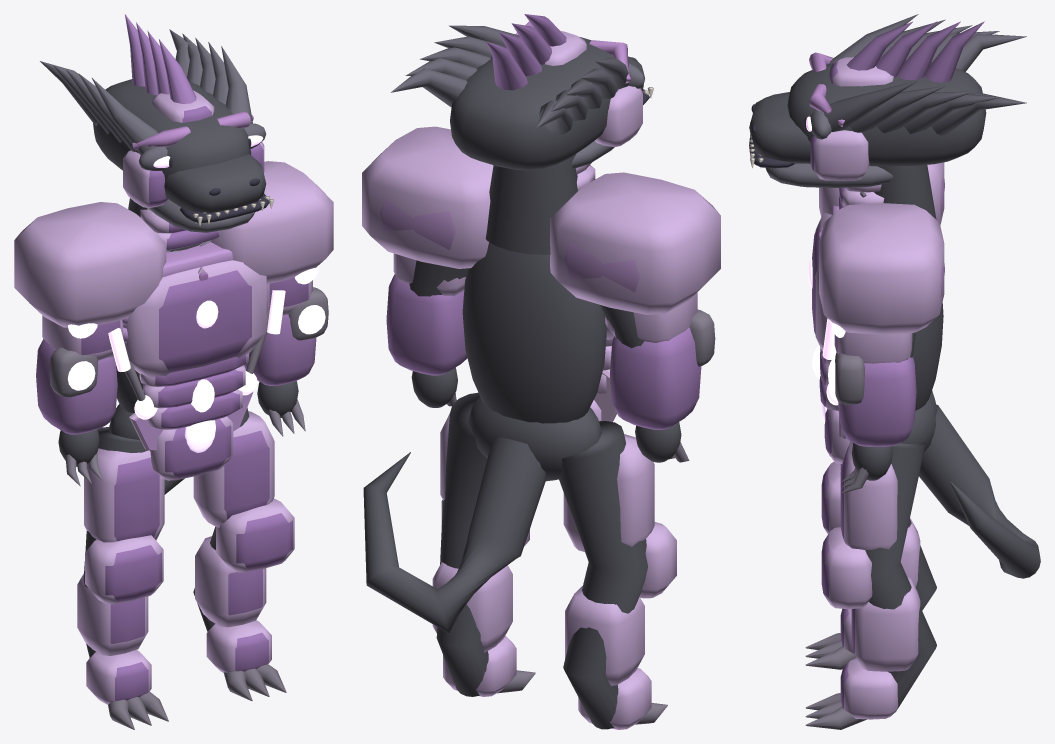
The model's file is TIROCHONADRAL.glb.
The picture shows the model from 3 angles, left to right: view 1: azimuth 30°, elevation 25°; view 2: azimuth 150°, elevation 25°; view 3: azimuth 270°, elevation 25°; orthographic projection. The views are drawn at different scales.
Visible parts, largest first — view 1: Reptillian 2 reinforced pauldron -1 armour rim, Reptillian 2 reinforced pauldron 1 armour rim, Reptillian 2 closed breastplate armour plate, Long angular dragon cranium, Reptillian 2 closed breastplate armour rim, Tapered muzzle, Left forearm mechanical bracer, Reptillian 2 thigh cuirass -1 armour plate, Reptillian 2 thigh cuirass 1 armour plate, Reptillian 2 thigh cuirass -1 armour rim, Reptillian 2 shin greave 1 armour rim, Right forearm mechanical bracer (+53 smaller); view 2: Scaled narrow torso, Reptillian 2 reinforced pauldron -1 armour rim, Long curling reptilian tail, Left digitigrade leg, Reptillian 2 reinforced pauldron 1 armour rim, Long angular dragon cranium, Right digitigrade leg, Left forearm mechanical bracer, Long reptilian neck, Right forearm mechanical bracer, Scaled hip, Reptillian 2 shin greave -1 armour rim (+32 smaller); view 3: Reptillian 2 reinforced pauldron 1 armour rim, Long curling reptilian tail, Long angular dragon cranium, Right digitigrade leg, Right forearm mechanical bracer, Reptillian 2 shin greave 1 armour rim, Reptillian 2 thigh cuirass 1 armour rim, Tapered muzzle, Reptillian 2 knee shield 1 armour rim, Reptillian 2 ankle guard 1 armour rim, Reptillian 2 cheek guard 1 armour rim, Reptillian 2 biceps guard 1 armour rim (+28 smaller).
Part boxes in pixels (x1,y1,x2,y2): Reptillian 2 reinforced pauldron -1 armour rim: (14, 202, 166, 327); Reptillian 2 reinforced pauldron 1 armour rim: (210, 161, 333, 283); Reptillian 2 closed breastplate armour plate: (159, 270, 251, 371); Long angular dragon cranium: (93, 79, 251, 180); Reptillian 2 closed breastplate armour rim: (123, 260, 266, 377); Tapered muzzle: (164, 154, 266, 212); Left forearm mechanical bracer: (36, 339, 117, 434); Reptillian 2 thigh cuirass -1 armour plate: (114, 457, 159, 541); Reptillian 2 thigh cuirass 1 armour plate: (224, 430, 269, 519); Reptillian 2 thigh cuirass -1 armour rim: (84, 448, 164, 542); Reptillian 2 shin greave 1 armour rim: (195, 536, 266, 627); Right forearm mechanical bracer: (244, 314, 316, 385); Scaled narrow torso: (462, 242, 606, 423); Reptillian 2 reinforced pauldron -1 armour rim: (550, 172, 720, 314); Long curling reptilian tail: (363, 437, 546, 634); Left digitigrade leg: (559, 421, 648, 729); Reptillian 2 reinforced pauldron 1 armour rim: (362, 126, 493, 268); Long angular dragon cranium: (450, 37, 618, 170); Right digitigrade leg: (436, 392, 488, 696); Left forearm mechanical bracer: (610, 327, 701, 429); Long reptilian neck: (485, 154, 577, 254); Right forearm mechanical bracer: (386, 274, 467, 375); Scaled hip: (467, 395, 601, 481); Reptillian 2 shin greave -1 armour rim: (565, 586, 644, 685); Reptillian 2 reinforced pauldron 1 armour rim: (819, 203, 944, 334); Long curling reptilian tail: (919, 404, 1040, 578); Long angular dragon cranium: (787, 60, 986, 166); Right digitigrade leg: (852, 442, 936, 712); Right forearm mechanical bracer: (838, 356, 916, 446); Reptillian 2 shin greave 1 armour rim: (855, 577, 920, 671); Reptillian 2 thigh cuirass 1 armour rim: (844, 441, 897, 550); Tapered muzzle: (749, 92, 810, 163); Reptillian 2 knee shield 1 armour rim: (825, 527, 872, 609); Reptillian 2 ankle guard 1 armour rim: (844, 658, 898, 719); Reptillian 2 cheek guard 1 armour rim: (814, 130, 869, 180); Reptillian 2 biceps guard 1 armour rim: (837, 331, 912, 363).
Size of the model in its own units: 2.2 by 4.67 by 1.84.
